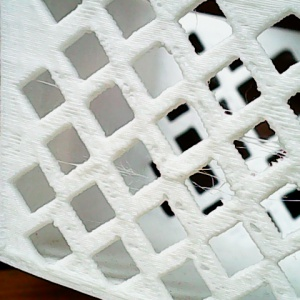3dpstringing: (230, 130, 291, 169), (185, 167, 235, 206), (112, 159, 158, 192), (263, 189, 299, 211), (51, 153, 92, 172), (30, 77, 71, 93), (186, 10, 206, 33), (220, 106, 233, 118)
3dpunderextrusion: (159, 192, 203, 227), (182, 244, 220, 277), (230, 209, 265, 242)
